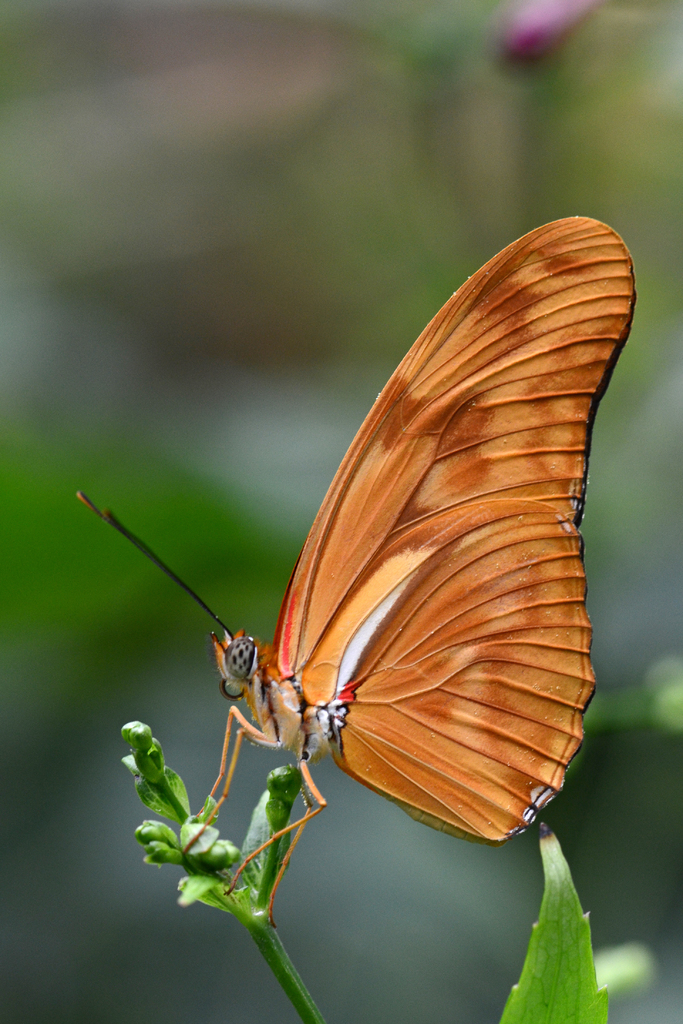Butterfly: (68, 202, 637, 852)
